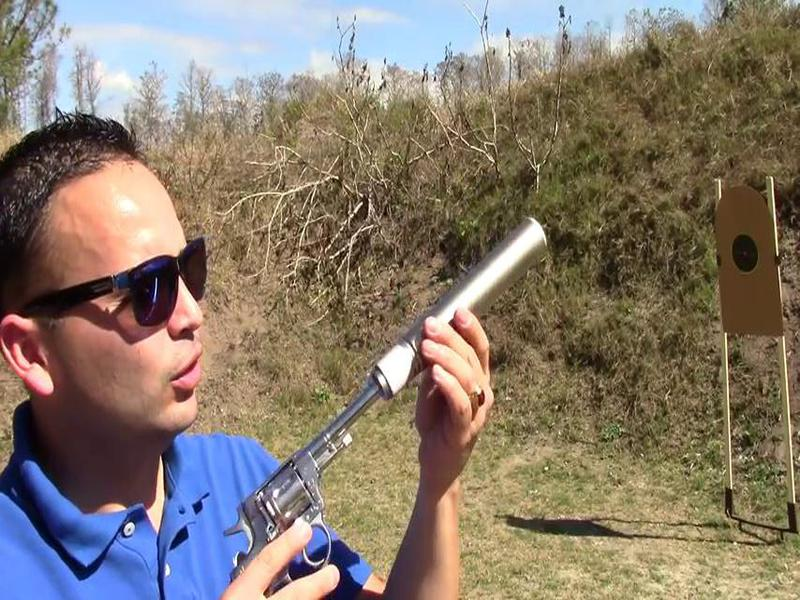Revolver: (191, 368, 385, 600)
